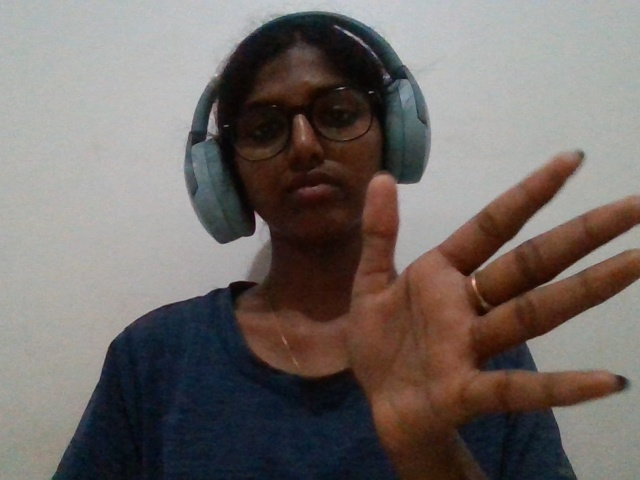Bye: (348, 127, 640, 447)
